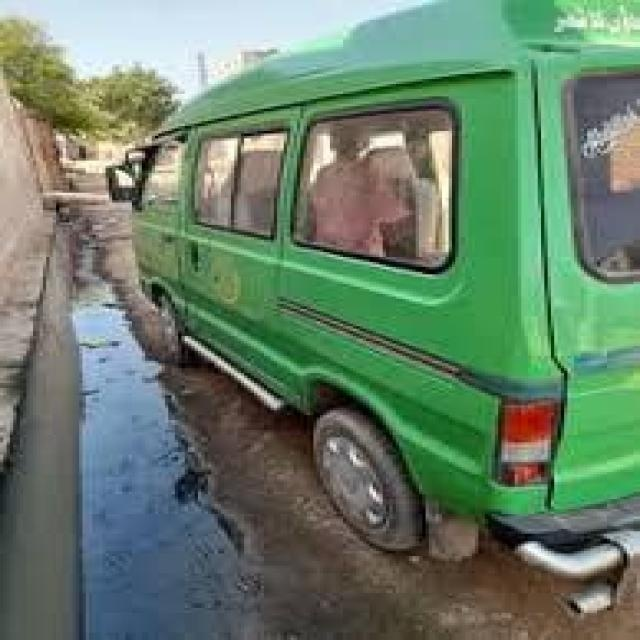Van: (102, 18, 640, 616)
